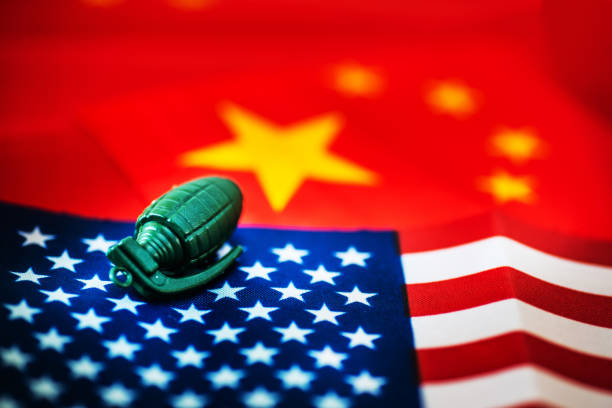e1: (109, 177, 245, 296)
